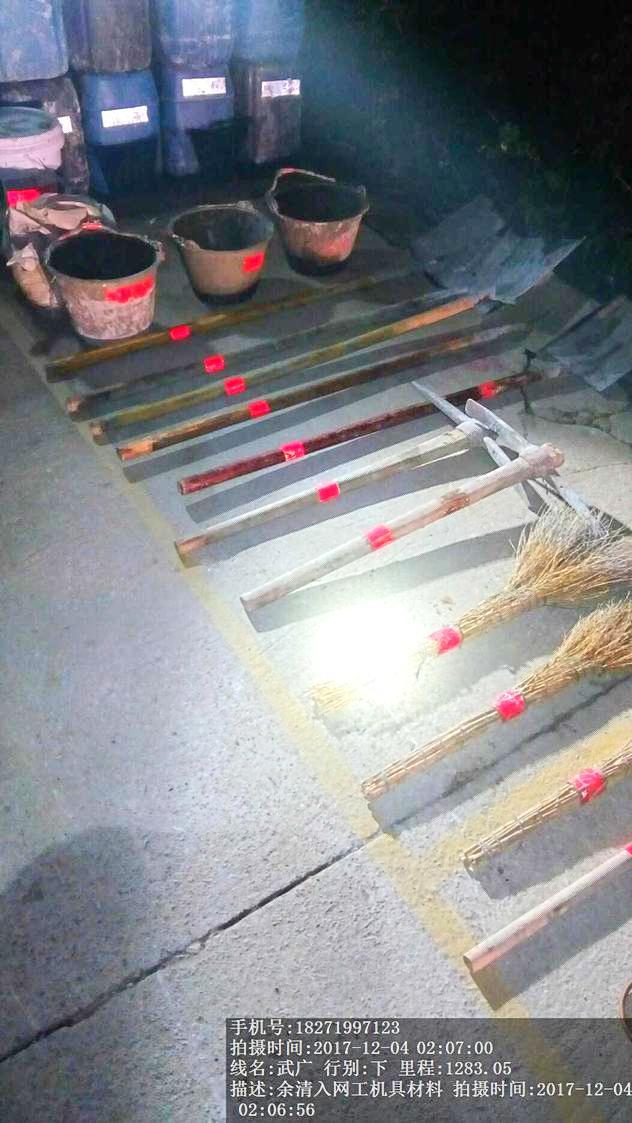SB: (296, 514, 623, 723), (357, 621, 632, 797)
SNT: (36, 223, 158, 341), (267, 166, 379, 269), (160, 201, 271, 298)
